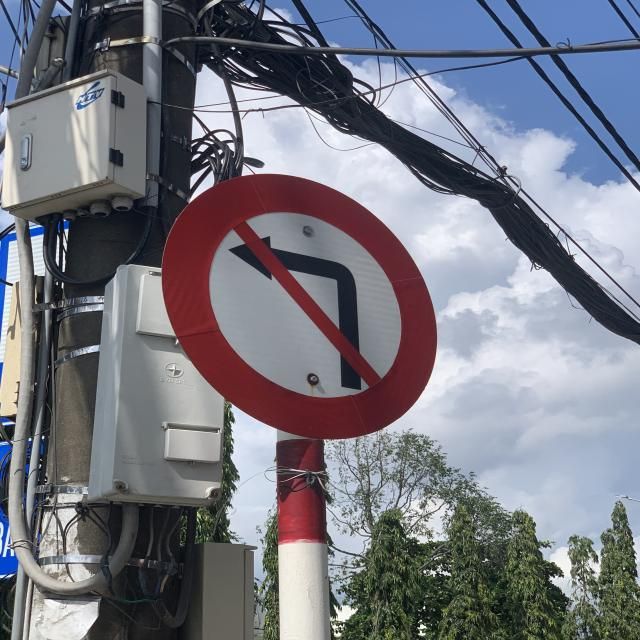Cam_Re_Trai: (163, 172, 440, 440)
